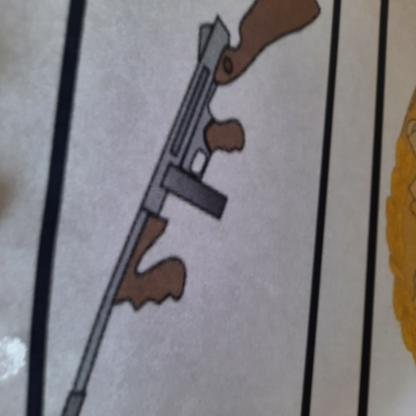Bootlegger: (60, 2, 331, 416)
